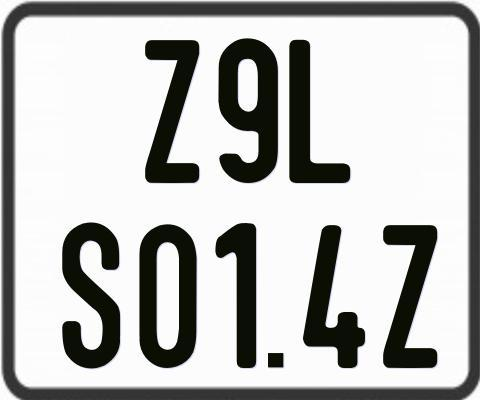0: (136, 224, 195, 374)
1: (213, 222, 255, 367)
4: (302, 223, 370, 368)
9: (215, 38, 275, 185)
L: (289, 37, 351, 182)
S: (62, 220, 124, 372)
Z: (380, 223, 438, 372), (142, 38, 199, 187)
